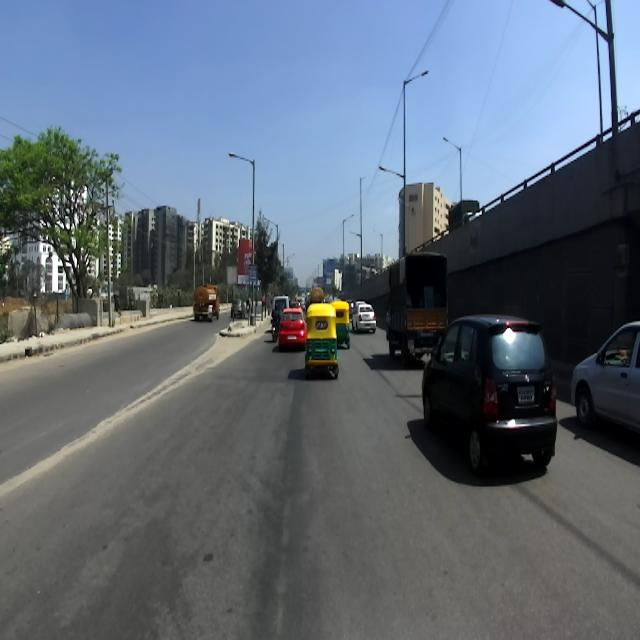auto ahead at: (302, 296, 339, 374)
car ahead at: (416, 308, 565, 482)
